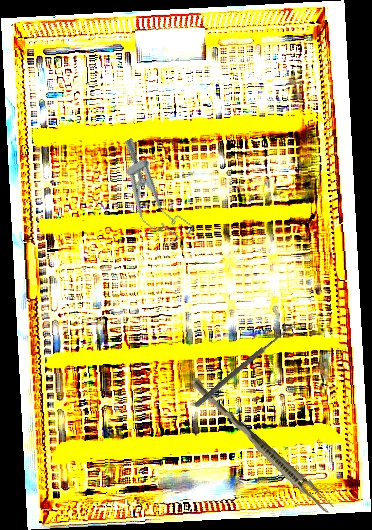Speculum: (103, 133, 197, 253)
Surgical Spoon: (194, 321, 296, 409)
Tissue Forceps: (184, 375, 338, 516)
